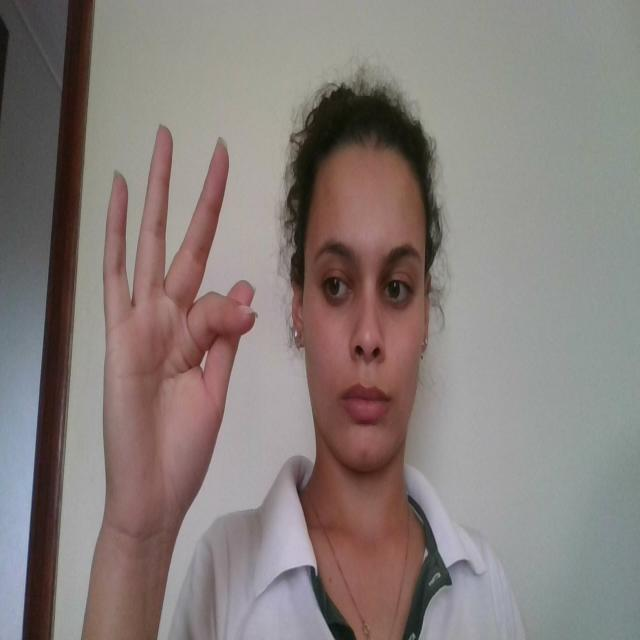F: (95, 107, 258, 521)
